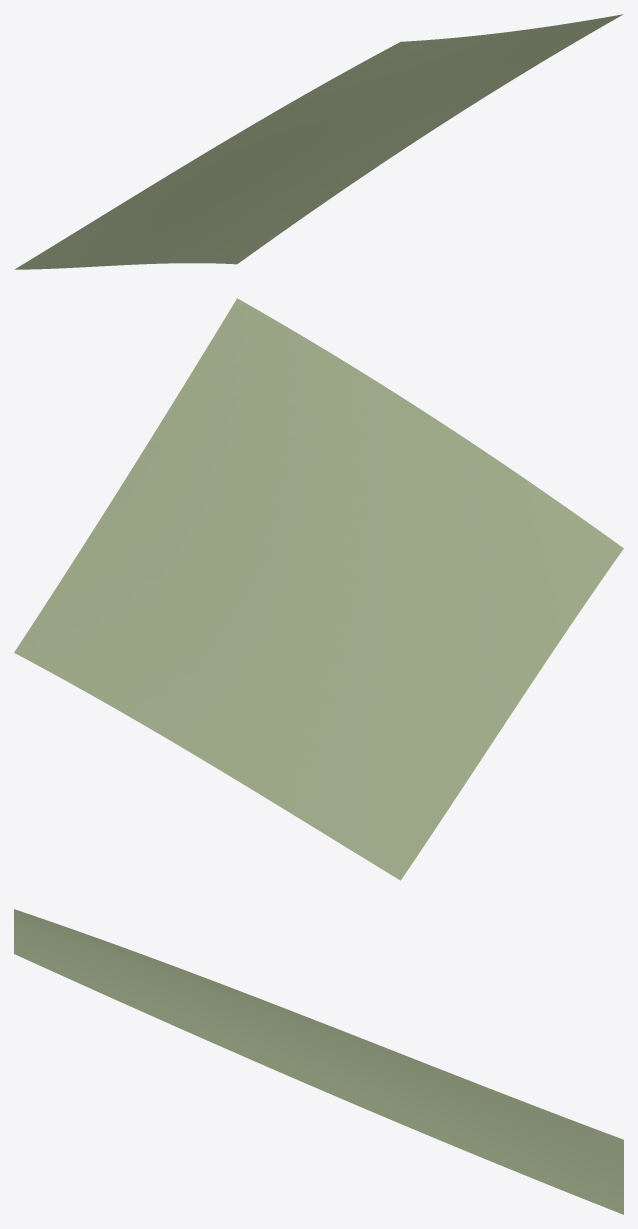
Rendered from alpine-6-4.glb.
3 views of the same model, one above another, from view 1: azimuth 30°, elevation 25°; view 2: azimuth 150°, elevation 25°; view 3: azimuth 270°, elevation 25° (orthographic). The views are drawn at different scales.
Parts seen in each view (by area): view 1: alpine-6-4; view 2: alpine-6-4; view 3: alpine-6-4.
Boxes of the visible parts, x1,y1,x2,y2 form: alpine-6-4: (15,14,622,269); alpine-6-4: (14,298,623,880); alpine-6-4: (14,909,623,1214).
Size of the model in its own units: 256 by 205 by 256.
